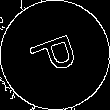P_E: (25, 29, 85, 81)
